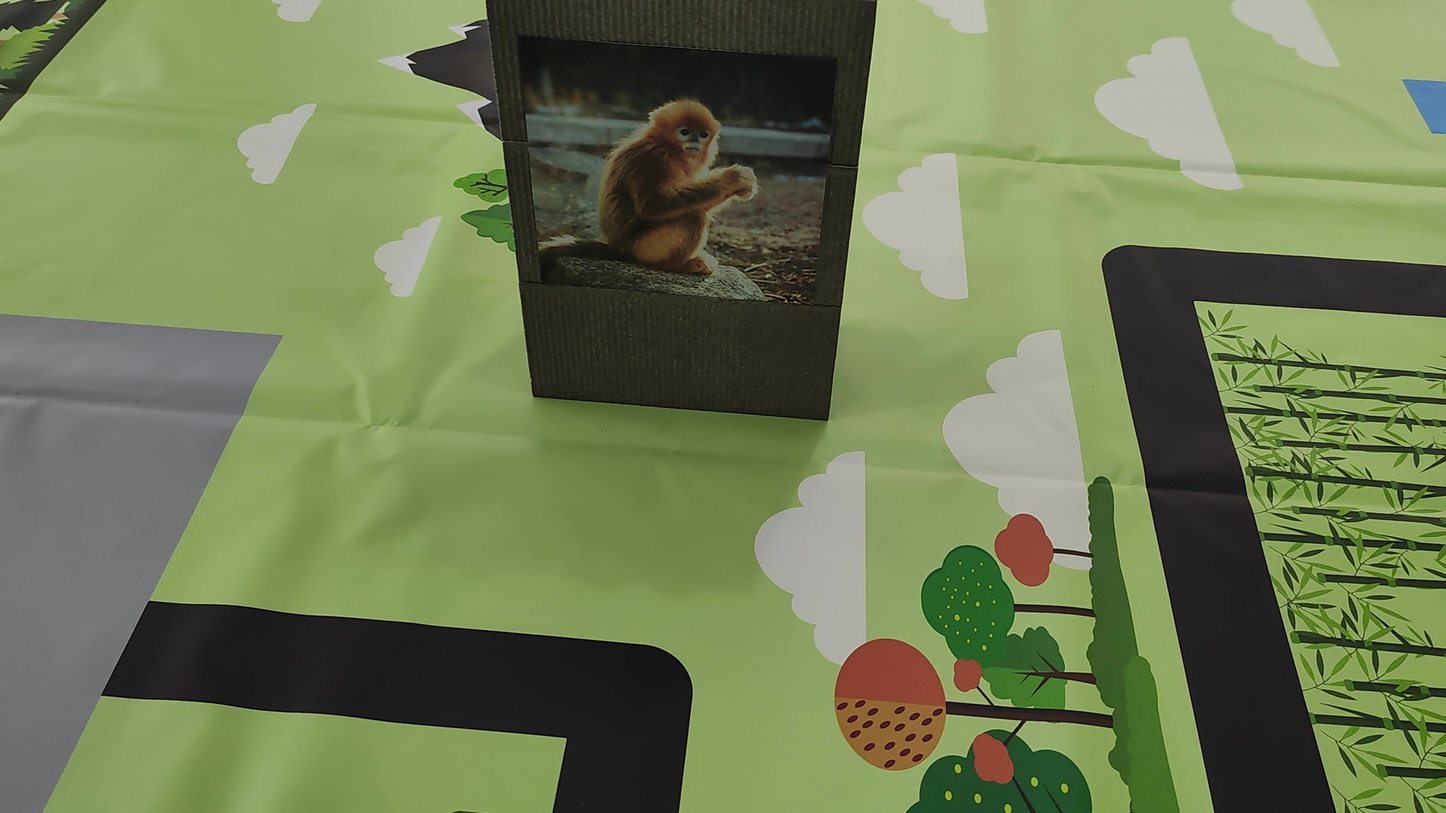monkey: (567, 69, 793, 295)
